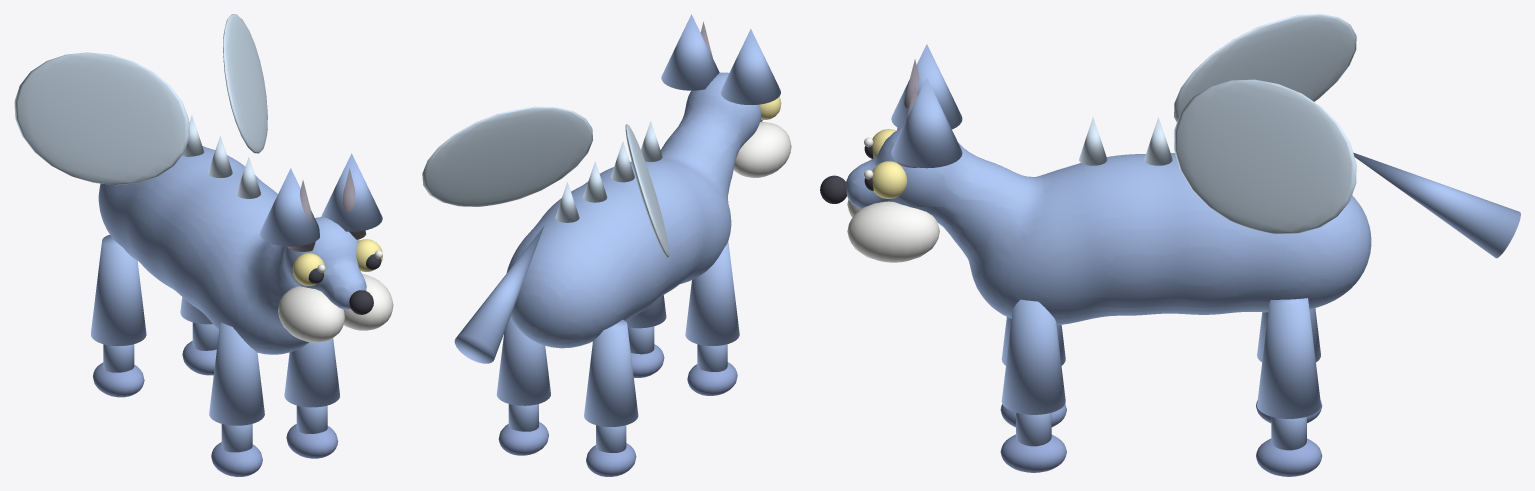
The model's file is Celestial Dragon.fbx.
The picture shows the model from 3 angles, left to right: view 1: azimuth 30°, elevation 25°; view 2: azimuth 150°, elevation 25°; view 3: azimuth 270°, elevation 25°; orthographic projection. The views are drawn at different scales.
Parts seen in each view (by area): view 1: Celestial Dragon; view 2: Celestial Dragon; view 3: Celestial Dragon.
Part boxes in pixels (bbox=[...]): Celestial Dragon: bbox=[14, 14, 393, 476]; Celestial Dragon: bbox=[422, 14, 791, 476]; Celestial Dragon: bbox=[820, 14, 1520, 476].
Bounding box in the file's own units: 272 × 368 × 590.
